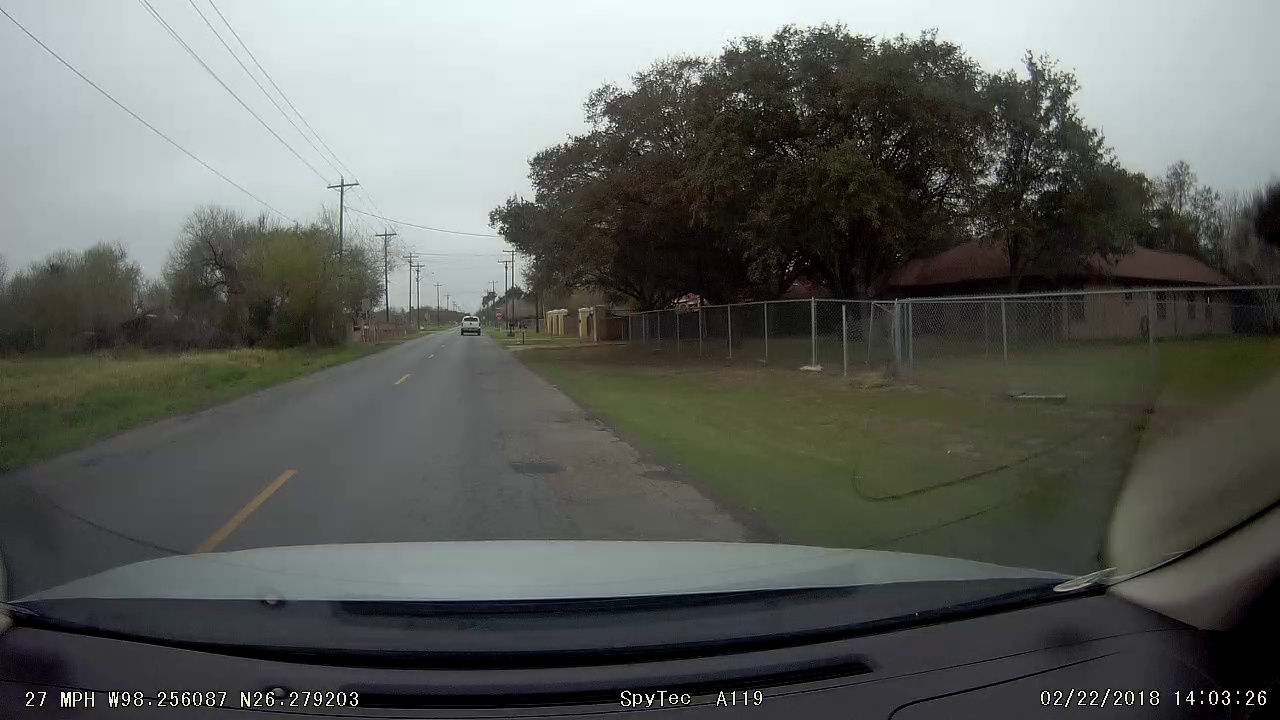pothole: (491, 447, 584, 489)
